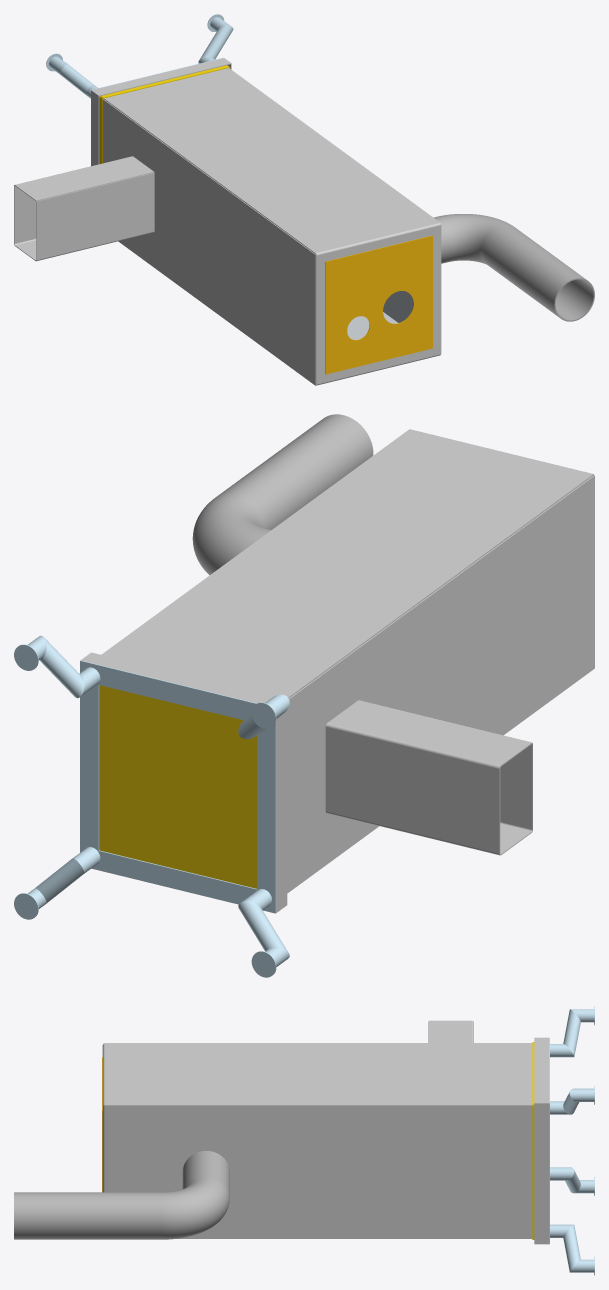
The model's file is testnew.gltf.
The picture shows the model from 3 angles, top to bottom: view 1: azimuth 30°, elevation 25°; view 2: azimuth 150°, elevation 25°; view 3: azimuth 270°, elevation 25°; orthographic projection. The views are drawn at different scales.
Visible parts, largest first — view 1: Part - A, Part - C, Part 9, Part 12, Part 10, Part 1 (×2), Part 7, Part - D, Part - B, Part 11, Part-d, Part 6 (+1 smaller); view 2: Part - A, Part - C, Part 11, Part 12, Part 10, Part 1 (×5), Part 2, Part 3, Part 4, Part 6, Part 7; view 3: Part - D, Part - A, Part 10, Part 1 (×4), Part 8, Part 12, Part 7, Part 11.
Boxes of the visible parts, bbox=[...] form: Part - A: bbox=[103, 68, 440, 261]; Part - C: bbox=[103, 99, 324, 385]; Part 9: bbox=[325, 235, 432, 374]; Part 12: bbox=[14, 156, 154, 261]; Part 10: bbox=[434, 214, 594, 321]; Part 1 (×2): bbox=[49, 17, 233, 98]; Part 7: bbox=[91, 58, 231, 96]; Part - D: bbox=[433, 223, 441, 354]; Part - B: bbox=[315, 348, 440, 385]; Part 11: bbox=[99, 65, 230, 163]; Part-d: bbox=[383, 291, 440, 354]; Part 6: bbox=[91, 90, 99, 165]; Part - A: bbox=[101, 429, 593, 698]; Part - C: bbox=[287, 475, 594, 893]; Part 11: bbox=[99, 685, 256, 888]; Part 12: bbox=[325, 700, 532, 855]; Part 10: bbox=[192, 414, 373, 575]; Part 1 (×5): bbox=[27, 635, 289, 966]; Part 2: bbox=[257, 721, 276, 913]; Part 3: bbox=[80, 660, 256, 720]; Part 4: bbox=[80, 661, 99, 852]; Part 6: bbox=[276, 710, 287, 912]; Part 7: bbox=[81, 652, 272, 703]; Part - D: bbox=[102, 1105, 532, 1238]; Part - A: bbox=[102, 1043, 532, 1105]; Part 10: bbox=[14, 1151, 229, 1239]; Part 1 (×4): bbox=[550, 1009, 594, 1272]; Part 8: bbox=[534, 1103, 548, 1244]; Part 12: bbox=[428, 1020, 473, 1042]; Part 7: bbox=[534, 1037, 548, 1103]; Part 11: bbox=[532, 1042, 534, 1239].
Size of the model in its own units: 0.7092 by 0.3565 by 0.9978.
